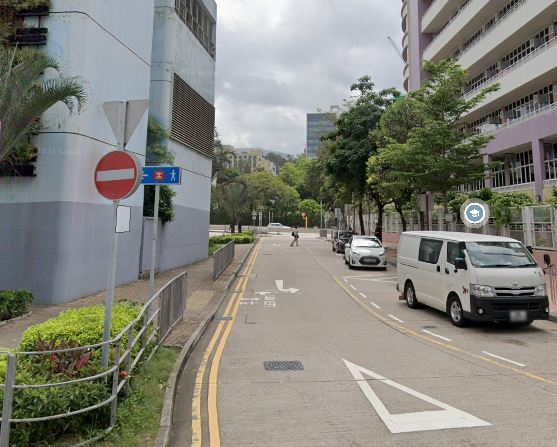No Enter: (92, 154, 138, 199)
